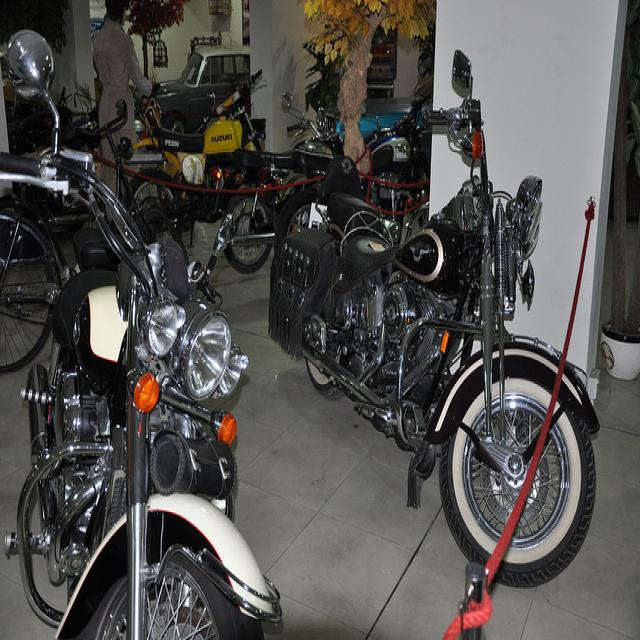motor: (267, 50, 604, 561), (1, 27, 283, 632), (210, 89, 361, 272), (123, 69, 266, 249), (336, 47, 434, 243)
